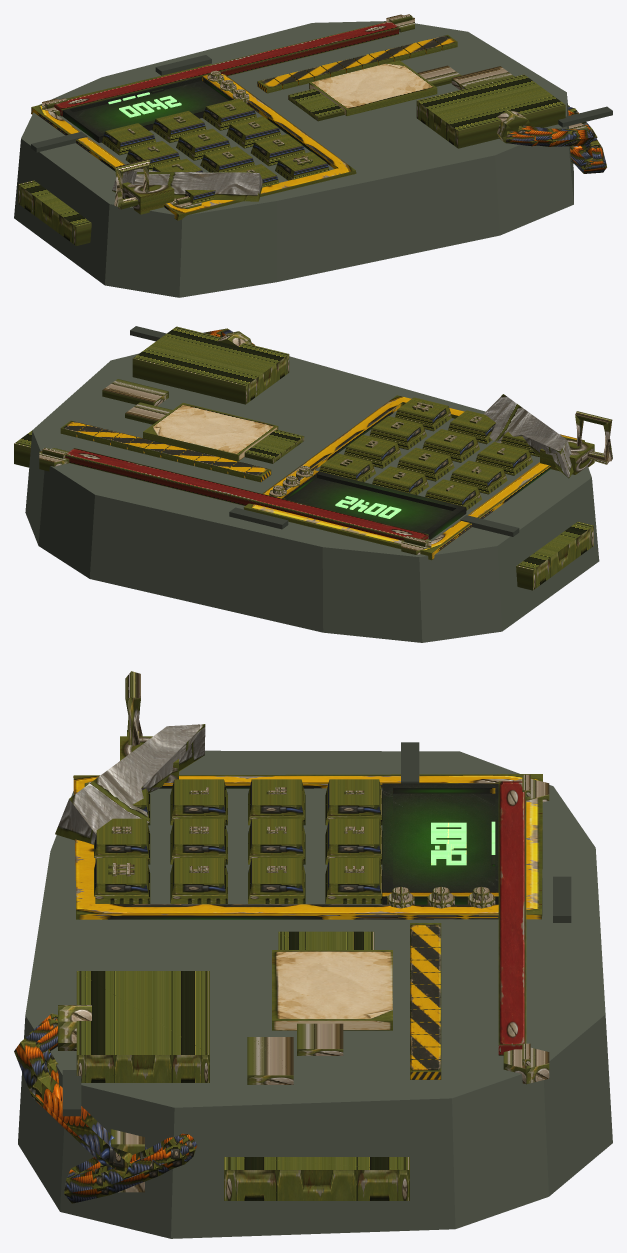
Rendered from C4_Keypad_Textured.fbx.
3 renders of one model, top to bottom at view 1: azimuth 30°, elevation 25°; view 2: azimuth 150°, elevation 25°; view 3: azimuth 270°, elevation 25°, orthographic. The views are drawn at different scales.
Visible parts, largest first — view 1: C4_Keypad; view 2: C4_Keypad; view 3: C4_Keypad.
Part boxes in pixels (x1,y1,x2,y2): C4_Keypad: (14, 14, 612, 297); C4_Keypad: (14, 326, 612, 642); C4_Keypad: (14, 671, 612, 1238).
Size of the model in its own units: 58.77 by 14.33 by 38.61.
16 materials, 14 textured.
